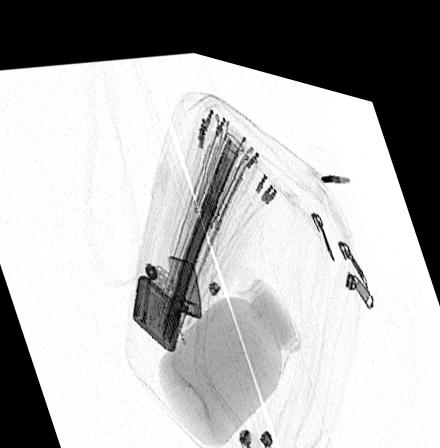Lighter: (131, 245, 202, 342)
